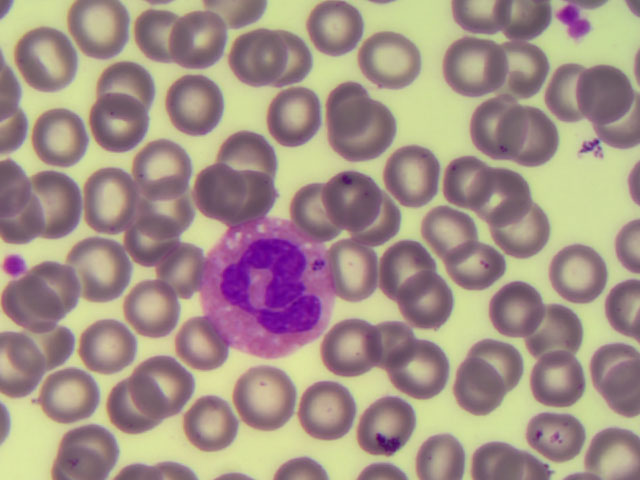Platelets: (555, 1, 595, 46), (4, 256, 27, 276)
RBC: (410, 413, 472, 480), (56, 413, 118, 480), (13, 28, 75, 94), (98, 47, 160, 113), (83, 87, 145, 153), (28, 107, 90, 173), (34, 169, 96, 235), (2, 190, 64, 256), (78, 166, 140, 232), (122, 131, 184, 197), (157, 71, 219, 137), (176, 18, 238, 84), (141, 8, 203, 74), (215, 21, 277, 87), (255, 22, 317, 88), (357, 21, 419, 87), (319, 67, 381, 133), (338, 101, 400, 167), (263, 88, 325, 154), (208, 116, 270, 182), (194, 158, 256, 224), (220, 157, 282, 223), (273, 164, 335, 230), (315, 164, 377, 230), (350, 186, 412, 252), (382, 141, 444, 207), (426, 149, 488, 215), (461, 162, 523, 228), (466, 92, 528, 158), (501, 93, 563, 159), (500, 36, 562, 102), (438, 27, 500, 93), (529, 60, 591, 126), (574, 60, 636, 126), (501, 196, 563, 262), (444, 238, 506, 304), (408, 189, 470, 255), (370, 227, 432, 293), (394, 269, 456, 335), (364, 306, 426, 372), (328, 312, 390, 378), (381, 332, 443, 398), (453, 356, 515, 422), (465, 331, 527, 397), (481, 258, 543, 324), (519, 303, 581, 369), (544, 243, 606, 309), (544, 349, 606, 415), (533, 389, 595, 455), (362, 397, 424, 463), (304, 376, 366, 442), (230, 364, 292, 430), (171, 389, 233, 455), (170, 309, 232, 375), (126, 352, 188, 418), (104, 377, 166, 443), (36, 366, 98, 432), (80, 316, 142, 382), (117, 277, 179, 343), (149, 228, 211, 294), (132, 206, 194, 272), (151, 176, 213, 242), (70, 232, 132, 298), (28, 267, 90, 333), (5, 283, 67, 349), (20, 315, 82, 381), (1, 340, 63, 406), (65, 1, 127, 66), (304, 1, 366, 66), (446, 1, 508, 51)
WBC: (198, 223, 340, 355)
